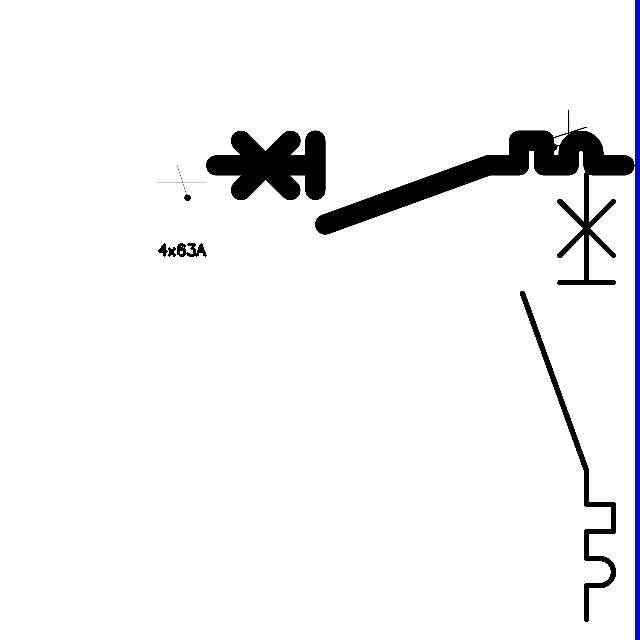interruptor_termomagnetico: (511, 162, 625, 630), (205, 130, 634, 235)
